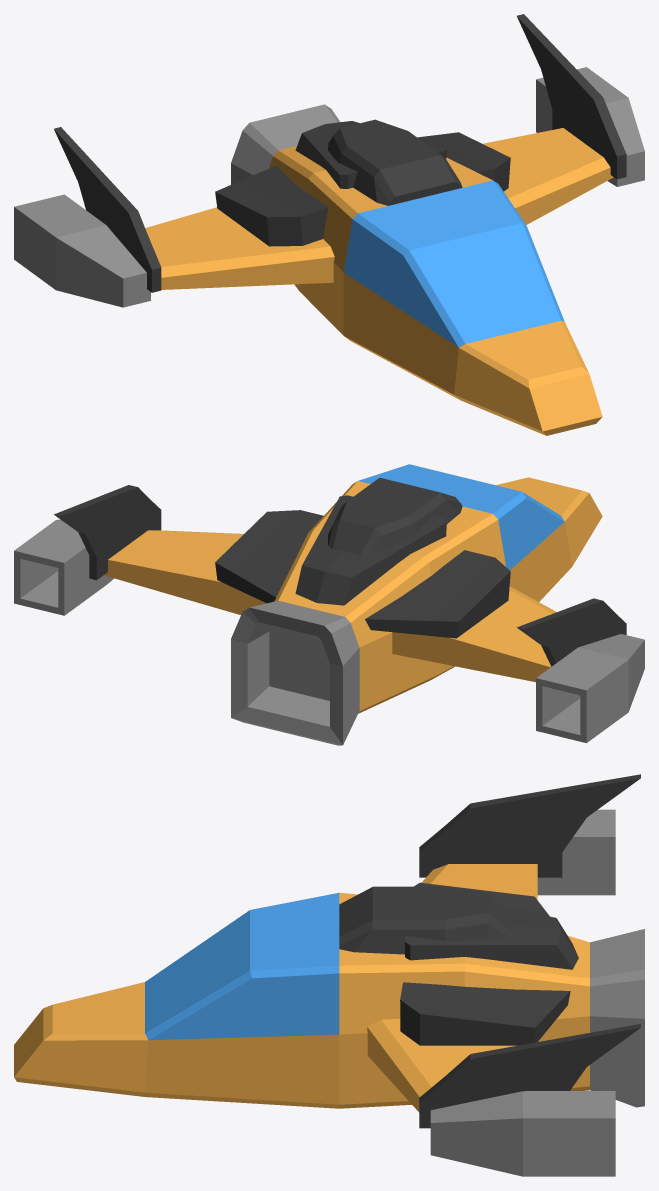
The model's file is t2_support.fbx.
The picture shows the model from 3 angles, top to bottom: view 1: azimuth 30°, elevation 25°; view 2: azimuth 150°, elevation 25°; view 3: azimuth 270°, elevation 25°; orthographic projection. The views are drawn at different scales.
Visible parts, largest first — view 1: Support|Cube_L_Rocket_Support.blend|Dupli|; view 2: Support|Cube_L_Rocket_Support.blend|Dupli|; view 3: Support|Cube_L_Rocket_Support.blend|Dupli|.
Boxes of the visible parts, bbox=[...] form: Support|Cube_L_Rocket_Support.blend|Dupli|: bbox=[14, 14, 644, 435]; Support|Cube_L_Rocket_Support.blend|Dupli|: bbox=[14, 464, 644, 745]; Support|Cube_L_Rocket_Support.blend|Dupli|: bbox=[14, 774, 644, 1176].
Size of the model in its own units: 555 by 152 by 479.
